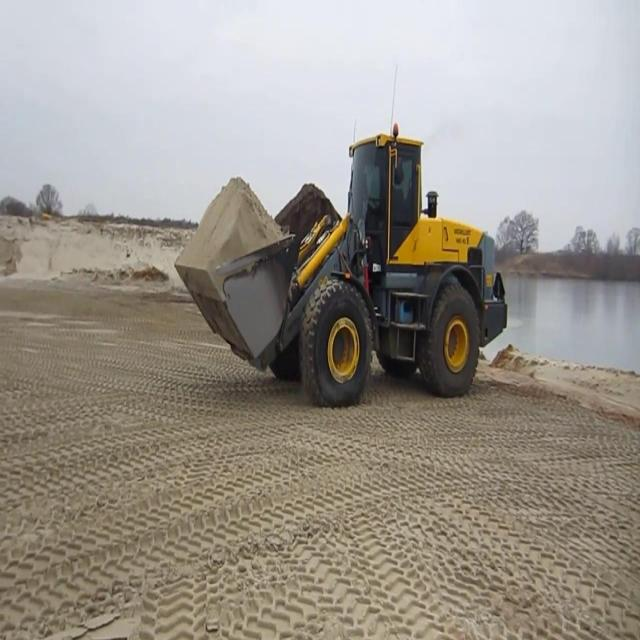Loader: (174, 88, 508, 410)
